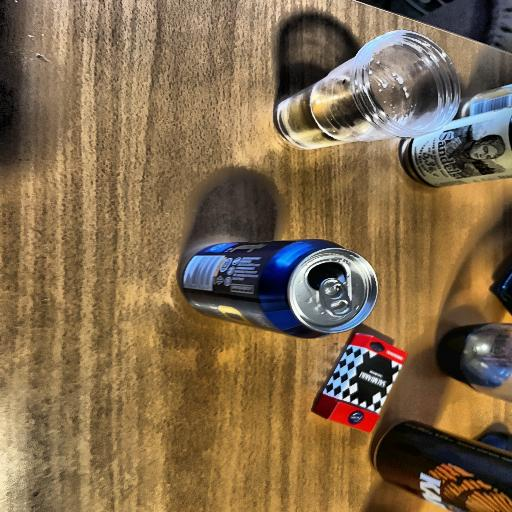karhu: (370, 414, 512, 512)
koti: (175, 234, 381, 332)
sandels: (398, 107, 512, 193)
